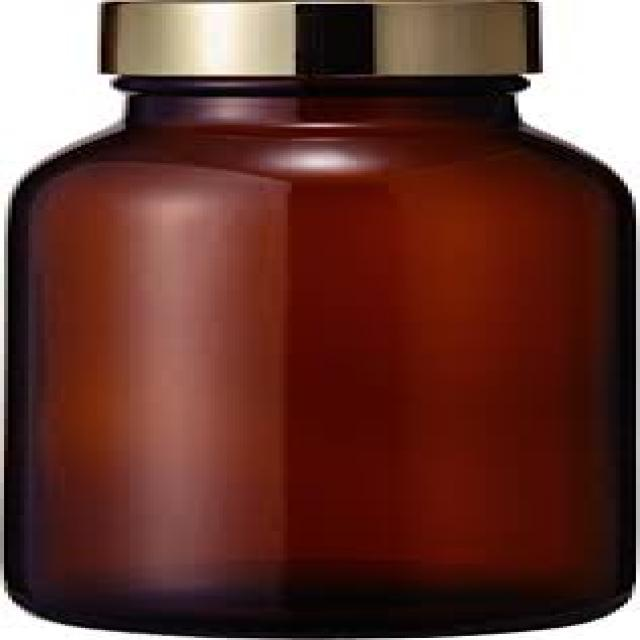glass: (12, 95, 632, 634)
